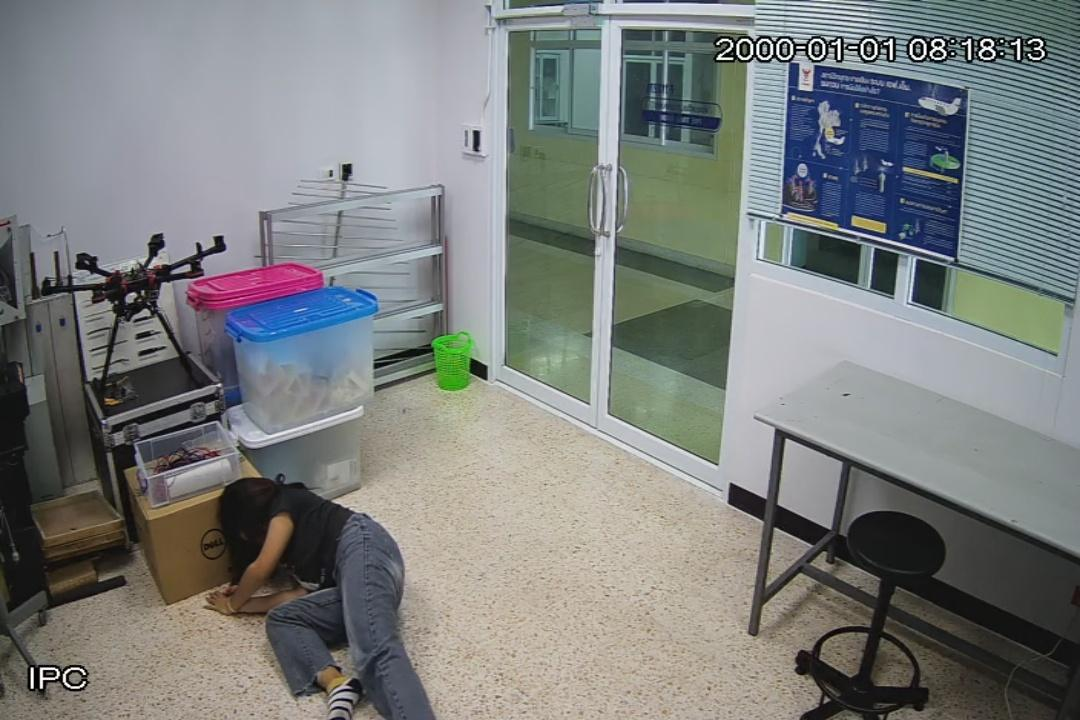fall: (211, 479, 436, 720)
